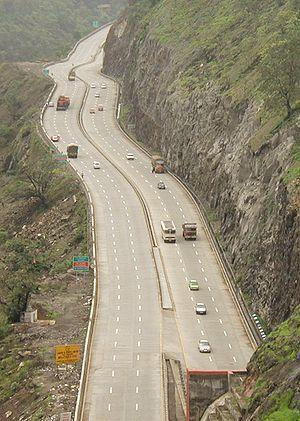car: (52, 89, 75, 121), (194, 329, 218, 358), (179, 215, 202, 244), (189, 299, 214, 323), (154, 223, 178, 247), (148, 158, 168, 180), (63, 142, 86, 161), (84, 102, 102, 125), (182, 275, 202, 294), (122, 147, 134, 166)
